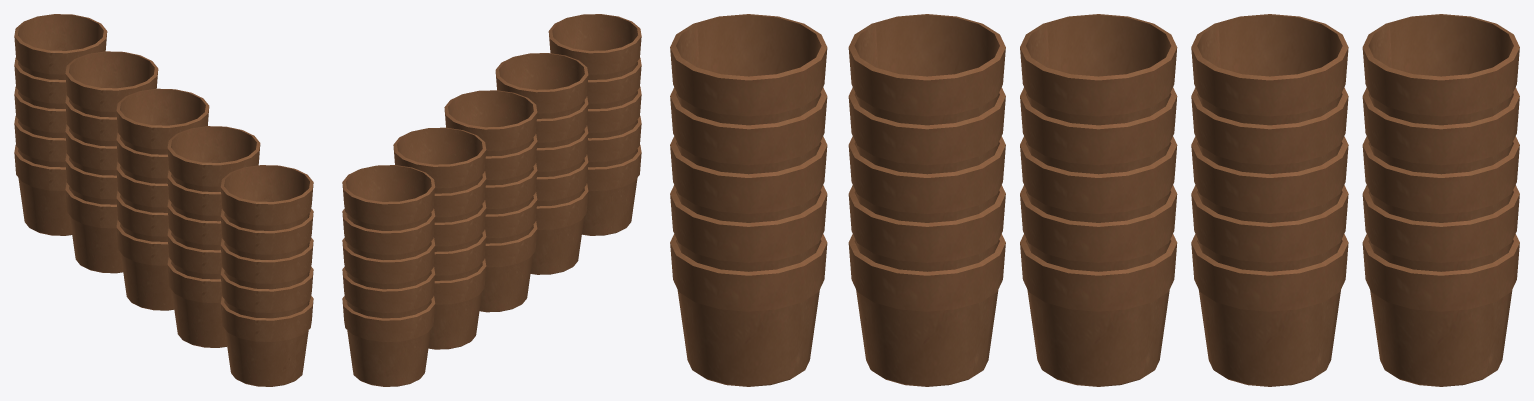
Rendered from SmalVaseGroup.fbx.
The picture shows the model from 3 angles, left to right: view 1: azimuth 30°, elevation 25°; view 2: azimuth 150°, elevation 25°; view 3: azimuth 270°, elevation 25°; orthographic projection. The views are drawn at different scales.
Visible parts, largest first — view 1: SmallVase4, SmallVase20, SmallVase21, SmallVase23, SmallVase22, SmallVase24, SmallVase3, SmallVase1, SmallVase2, SmallVase, SmallVase10, SmallVase5 (+13 smaller); view 2: SmallVase, SmallVase24, SmallVase20, SmallVase22, SmallVase21, SmallVase23, SmallVase4, SmallVase1, SmallVase2, SmallVase3, SmallVase14, SmallVase9 (+13 smaller); view 3: SmallVase, SmallVase1, SmallVase3, SmallVase4, SmallVase2, SmallVase20, SmallVase21, SmallVase24, SmallVase23, SmallVase22, SmallVase10, SmallVase14 (+13 smaller).
Part boxes in pixels (box(x1,y1,x2,y2)): SmallVase4: box(220, 296, 313, 386); SmallVase20: box(220, 165, 313, 230); SmallVase21: box(167, 126, 260, 191); SmallVase23: box(65, 51, 158, 117); SmallVase22: box(116, 88, 209, 154); SmallVase24: box(14, 14, 107, 79); SmallVase3: box(167, 257, 227, 347); SmallVase1: box(65, 182, 123, 273); SmallVase2: box(116, 219, 174, 310); SmallVase: box(14, 145, 72, 235); SmallVase10: box(220, 237, 313, 289); SmallVase5: box(220, 267, 313, 318); SmallVase: box(342, 296, 435, 386); SmallVase24: box(342, 165, 435, 230); SmallVase20: box(548, 14, 641, 79); SmallVase22: box(444, 90, 537, 156); SmallVase21: box(495, 53, 588, 118); SmallVase23: box(393, 127, 486, 193); SmallVase4: box(582, 145, 641, 235); SmallVase1: box(428, 258, 486, 349); SmallVase2: box(479, 221, 537, 312); SmallVase3: box(530, 183, 588, 274); SmallVase14: box(342, 237, 435, 289); SmallVase9: box(342, 267, 435, 318); SmallVase: box(1362, 234, 1519, 386); SmallVase1: box(1191, 234, 1348, 386); SmallVase3: box(848, 234, 1005, 386); SmallVase4: box(670, 234, 827, 386); SmallVase2: box(1020, 234, 1177, 386); SmallVase20: box(670, 14, 827, 125); SmallVase21: box(848, 14, 1005, 125); SmallVase24: box(1362, 14, 1519, 125); SmallVase23: box(1191, 14, 1348, 125); SmallVase22: box(1020, 14, 1177, 125); SmallVase10: box(670, 136, 827, 222); SmallVase14: box(1362, 136, 1519, 222).
Bounding box in the file's own units: 6.11 × 13.56 × 33.01.
